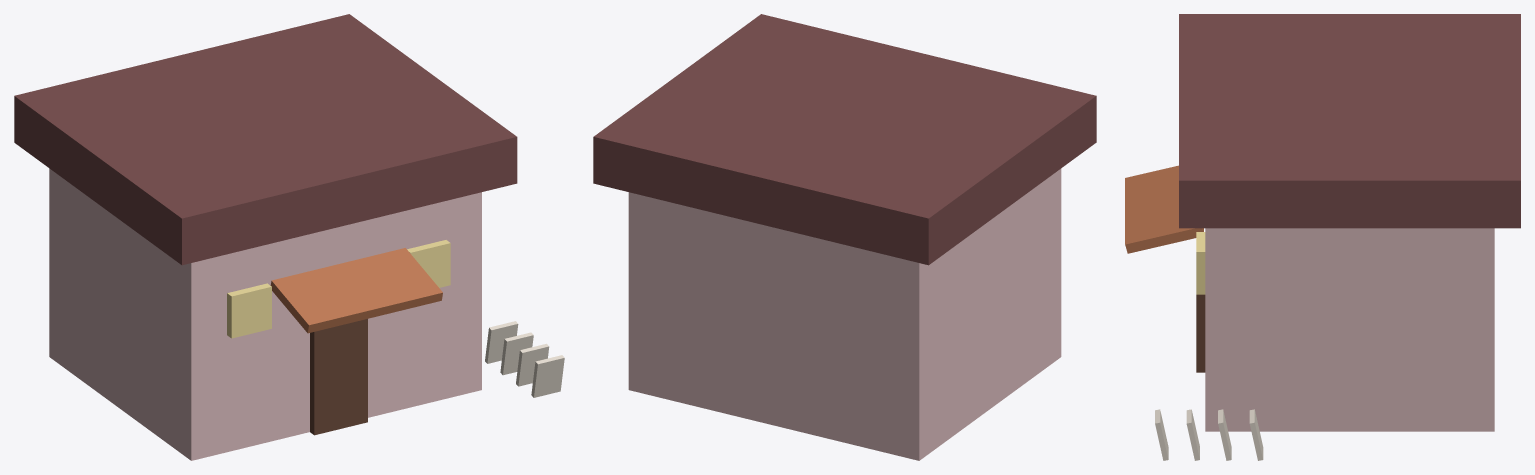
The model's file is scribe_house.glb.
3 renders of one model, left to right at view 1: azimuth 30°, elevation 25°; view 2: azimuth 150°, elevation 25°; view 3: azimuth 270°, elevation 25°, orthographic.
Parts seen in each view (by area): view 1: roof, walls, detail_awning, door, detail_window-1, detail_window1, detail_tablet0, detail_tablet2, detail_tablet1, detail_tablet3; view 2: walls, roof; view 3: roof, walls, detail_awning, door, detail_window1, detail_tablet3, detail_tablet0, detail_tablet1, detail_tablet2.
Part boxes in pixels (left/top/right/bottom): roof: left=14, top=14, right=517, bottom=265; walls: left=49, top=168, right=481, bottom=460; detail_awning: left=270, top=248, right=442, bottom=333; door: left=310, top=319, right=367, bottom=435; detail_window-1: left=227, top=283, right=271, bottom=338; detail_window1: left=407, top=240, right=450, bottom=287; detail_tablet0: left=531, top=355, right=564, bottom=397; detail_tablet2: left=500, top=332, right=533, bottom=375; detail_tablet1: left=516, top=343, right=549, bottom=386; detail_tablet3: left=485, top=321, right=518, bottom=363; walls: left=628, top=168, right=1061, bottom=460; roof: left=593, top=14, right=1096, bottom=265; roof: left=1179, top=14, right=1520, bottom=228; walls: left=1205, top=228, right=1494, bottom=431; detail_awning: left=1125, top=165, right=1203, bottom=253; door: left=1196, top=294, right=1205, bottom=372; detail_window1: left=1196, top=232, right=1205, bottom=294; detail_tablet3: left=1249, top=409, right=1263, bottom=460; detail_tablet0: left=1155, top=409, right=1168, bottom=460; detail_tablet1: left=1186, top=409, right=1199, bottom=460; detail_tablet2: left=1218, top=409, right=1231, bottom=460.
Size of the model in its own units: 1.66 by 1.1 by 1.51.
